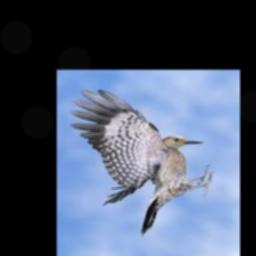Woodpecker: (70, 90, 214, 235)
